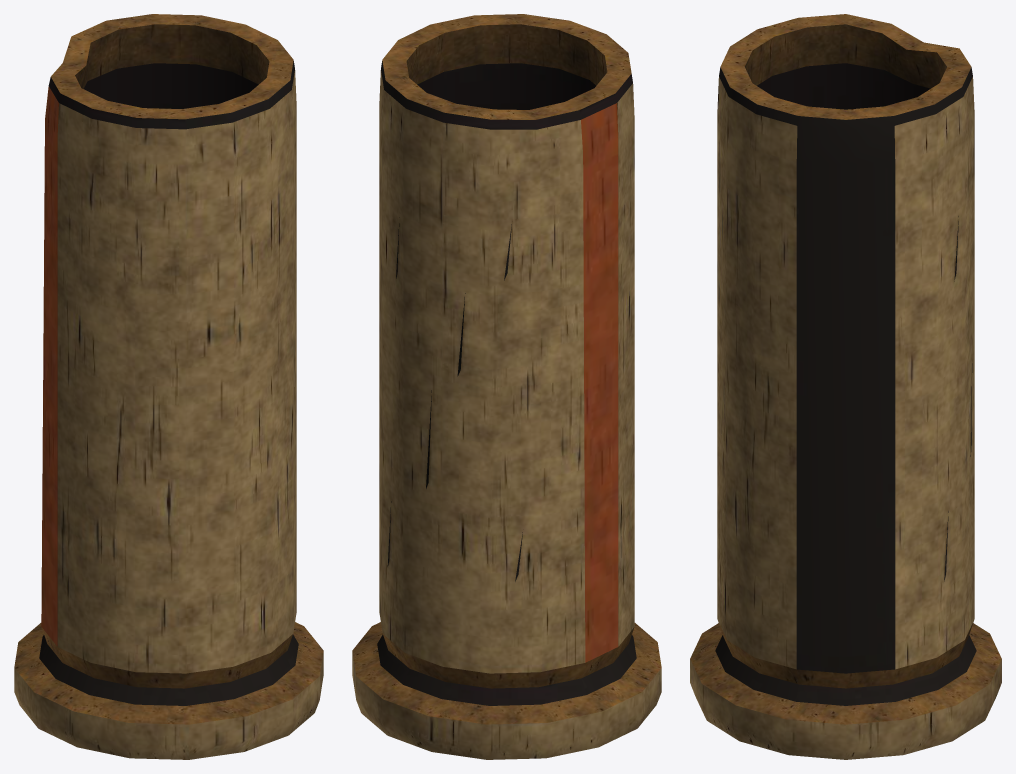
3 renders of one model, left to right at view 1: azimuth 30°, elevation 25°; view 2: azimuth 150°, elevation 25°; view 3: azimuth 270°, elevation 25°, orthographic.
Parts seen in each view (by area): view 1: Dusty_tarnished_brass, Dark_bronze_groove_patina, Hand_ink_outlines, Warm_rust_edge; view 2: Dusty_tarnished_brass, Dark_bronze_groove_patina, Warm_rust_edge, Hand_ink_outlines; view 3: Dusty_tarnished_brass, Hand_ink_outlines, Dark_bronze_groove_patina.
Part boxes in pixels (<box>): Dusty_tarnished_brass: <box>14,70,323,759</box>; Dark_bronze_groove_patina: <box>14,14,323,724</box>; Hand_ink_outlines: <box>39,61,298,705</box>; Warm_rust_edge: <box>41,86,58,646</box>; Dusty_tarnished_brass: <box>352,70,661,759</box>; Dark_bronze_groove_patina: <box>352,14,661,724</box>; Warm_rust_edge: <box>581,103,618,662</box>; Hand_ink_outlines: <box>377,61,636,705</box>; Dusty_tarnished_brass: <box>690,77,1001,759</box>; Hand_ink_outlines: <box>715,63,976,705</box>; Dark_bronze_groove_patina: <box>690,14,1001,724</box>.
Bounding box in the file's own units: 0.422 × 0.953 × 0.422.
4 materials, 4 textured.
